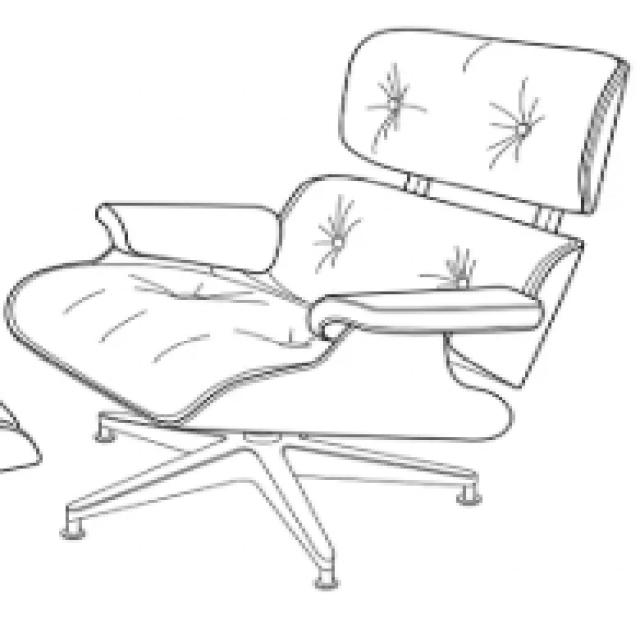Backrest: (266, 173, 584, 390)
Eames_base: (54, 433, 497, 609)
Eames_lounge: (304, 283, 549, 343), (91, 200, 283, 276)
Headrest: (333, 24, 634, 234)
Seat: (0, 251, 513, 441)
